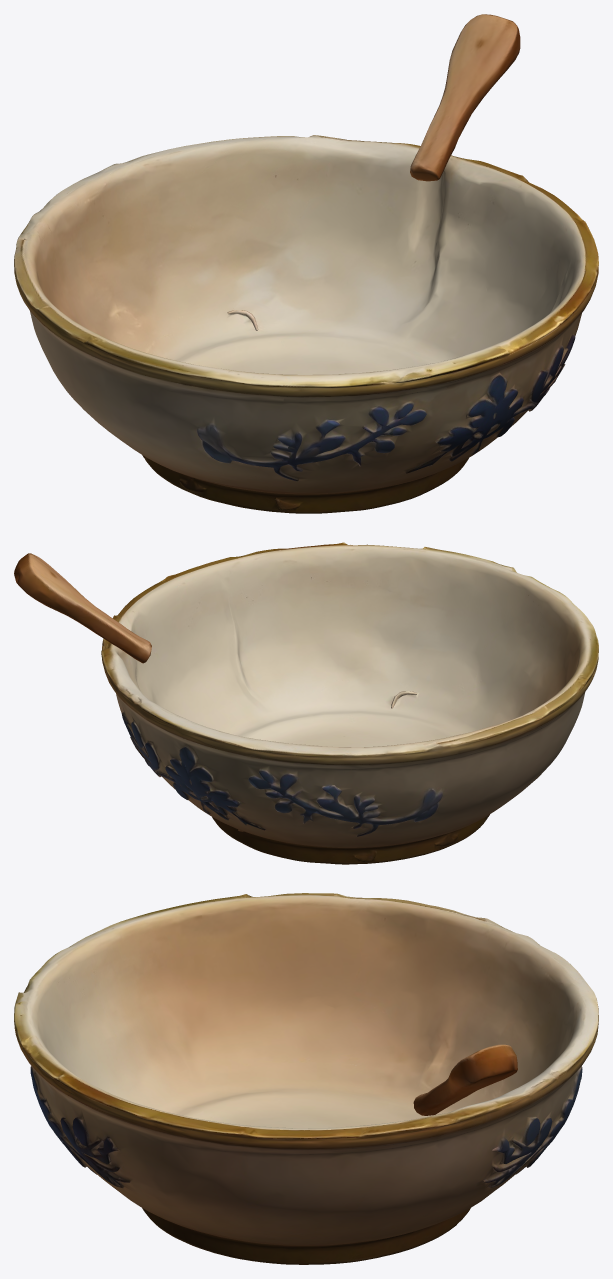
The model's file is goblin-kitchen-bowl.glb.
3 renders of one model, top to bottom at view 1: azimuth 30°, elevation 25°; view 2: azimuth 150°, elevation 25°; view 3: azimuth 270°, elevation 25°, orthographic. The views are drawn at different scales.
Visible parts, largest first — view 1: tripo_node_9dc4c47a-870c-40bc-a3f8-25b960a2a2dc; view 2: tripo_node_9dc4c47a-870c-40bc-a3f8-25b960a2a2dc; view 3: tripo_node_9dc4c47a-870c-40bc-a3f8-25b960a2a2dc.
Part boxes in pixels (x1,y1,x2,y2): tripo_node_9dc4c47a-870c-40bc-a3f8-25b960a2a2dc: (14,14,598,513); tripo_node_9dc4c47a-870c-40bc-a3f8-25b960a2a2dc: (14,542,598,864); tripo_node_9dc4c47a-870c-40bc-a3f8-25b960a2a2dc: (14,893,598,1264).
Size of the model in its own units: 1 by 0.4985 by 0.9235.
1 material, 1 textured.
